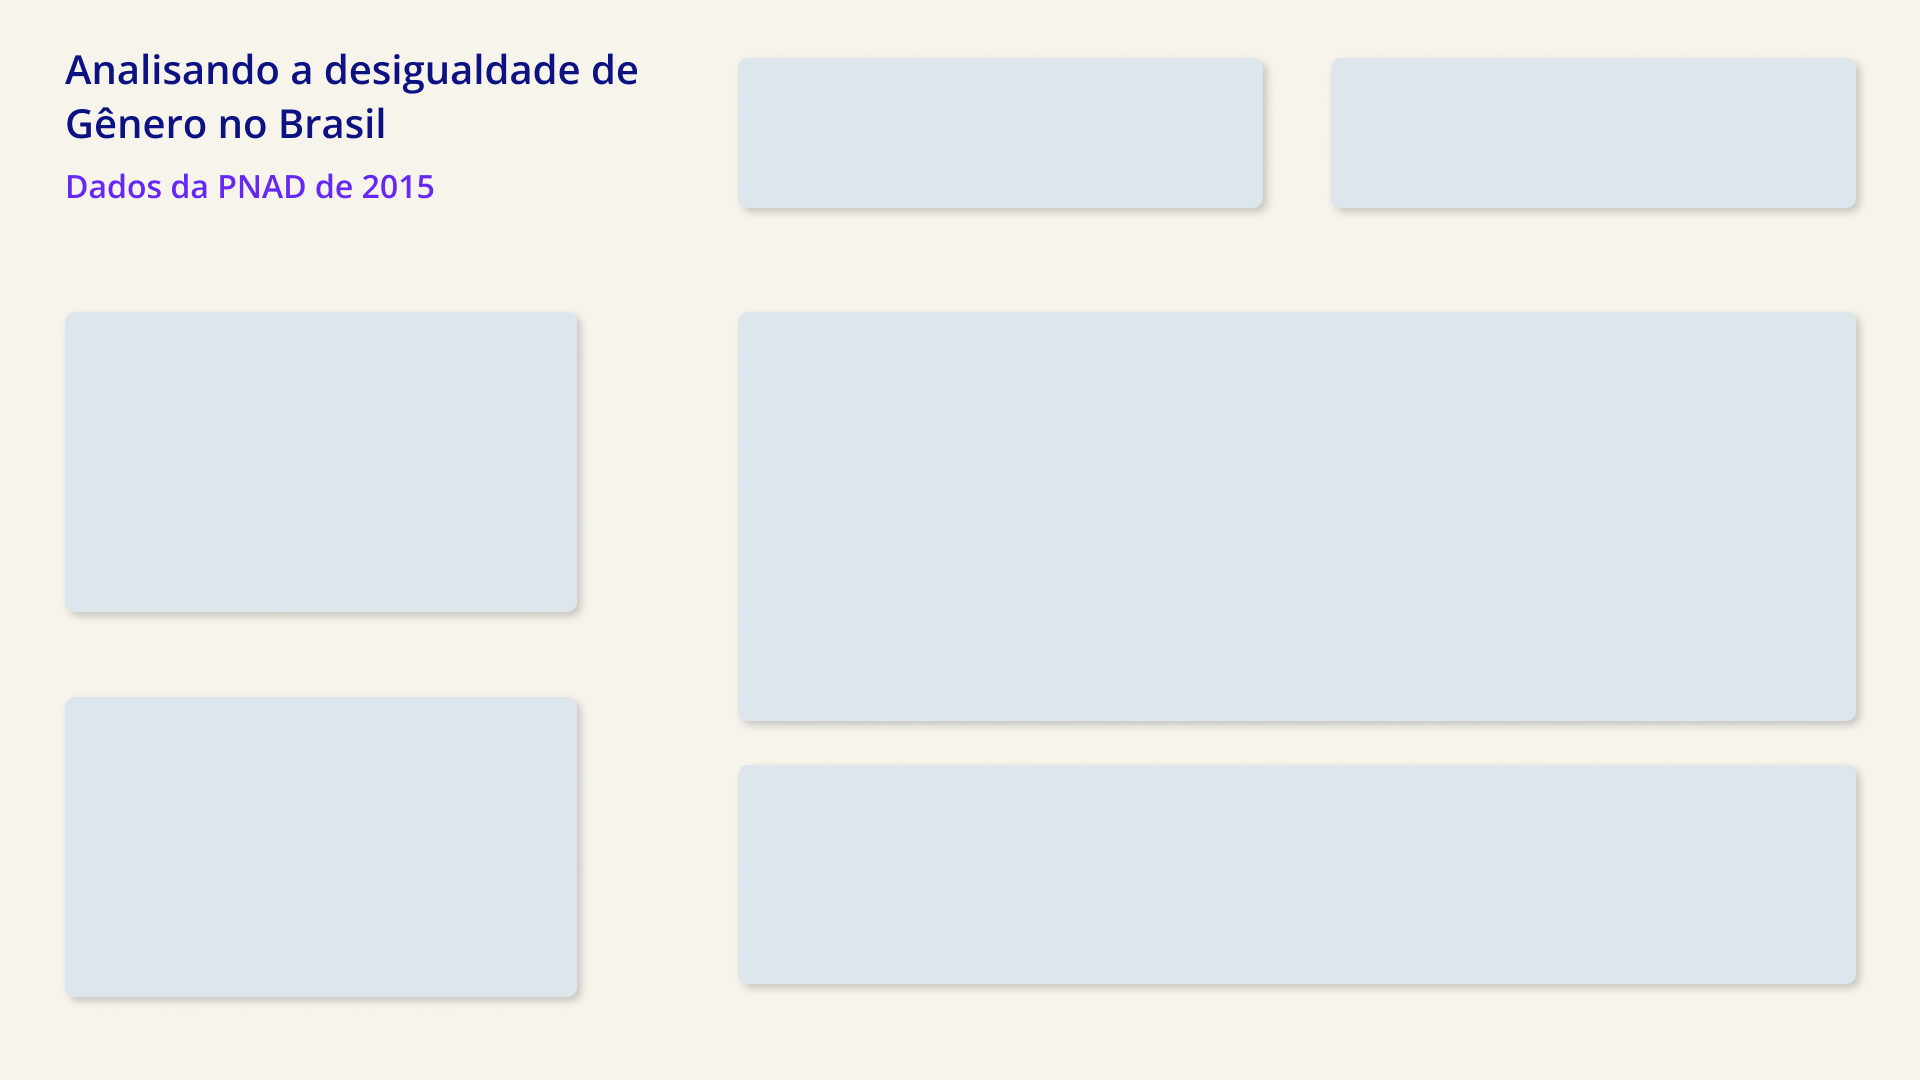

This screenshot's page, from the dashboard's own definition file:
{"tool":"powerbi","page":{"name":"Renda","canvas":[1280,720],"ordinal":1},"visuals":[{"type":"card","fields":{"Values":["MedidasSP.MediaHomens"]},"box":[43.7,206,341.1,202.2],"z":0},{"type":"card","fields":{"Values":["MedidasSP.MediaMulheres"]},"box":[43.7,462.6,341.1,203.1],"z":1000},{"type":"slicer","fields":{"Values":["Renda.UF"]},"box":[492.8,40.8,349.9,98.2],"z":2000},{"type":"slicer","fields":{"Values":["Renda.Cor"]},"box":[887.4,40.8,349.9,98.2],"z":3000},{"type":"clusteredColumnChart","title":"Renda Média por Anos de Estudo","fields":{"Category":["Renda.Anos de Estudo"],"Y":["Avg(Renda.Renda)"],"Series":["Renda.Sexo"]},"box":[499.6,217.7,730.9,254.6],"z":4000},{"type":"card","title":"No geral as mulheres ganham","fields":{"Values":["Medidas.DiferencaEmRenda"]},"box":[492.8,515.1,341.1,134.1],"z":5000},{"type":"textbox","box":[842.6,515.1,387.8,134.1],"z":6000},{"type":"actionButton","box":[1228.5,0,51.5,40.8],"z":6001},{"type":"actionButton","box":[0,1,53.5,39.8],"z":6002}]}

Visuals, with their boxes in screenshot pixels (x1, y1, x2, y2), scaled from the page's 1280x720 canvas onto the 1920x1080 screenshot:
card - MedidasSP.MediaHomens: <bbox>66, 309, 577, 612</bbox>
card - MedidasSP.MediaMulheres: <bbox>66, 694, 577, 999</bbox>
slicer - Renda.UF: <bbox>739, 61, 1264, 208</bbox>
slicer - Renda.Cor: <bbox>1331, 61, 1856, 208</bbox>
"Renda Média por Anos de Estudo" clusteredColumnChart: <bbox>749, 327, 1846, 708</bbox>
"No geral as mulheres ganham" card: <bbox>739, 773, 1251, 974</bbox>
textbox: <bbox>1264, 773, 1846, 974</bbox>
actionButton: <bbox>1843, 0, 1919, 61</bbox>
actionButton: <bbox>0, 2, 80, 61</bbox>
